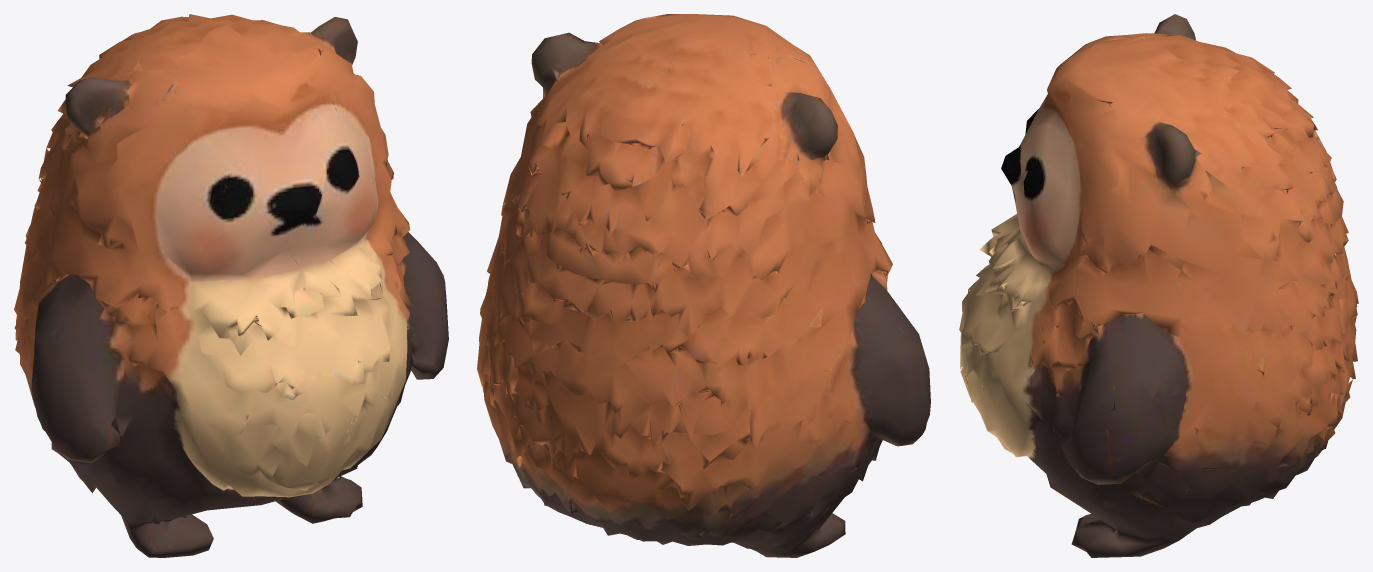
File: lemming.glb
The picture shows the model from 3 angles, left to right: view 1: azimuth 30°, elevation 25°; view 2: azimuth 150°, elevation 25°; view 3: azimuth 270°, elevation 25°; orthographic projection. The views are drawn at different scales.
Size of the model in its own units: 0.867 by 0.9919 by 0.7796.
Materials: 1 (1 with a texture image).
